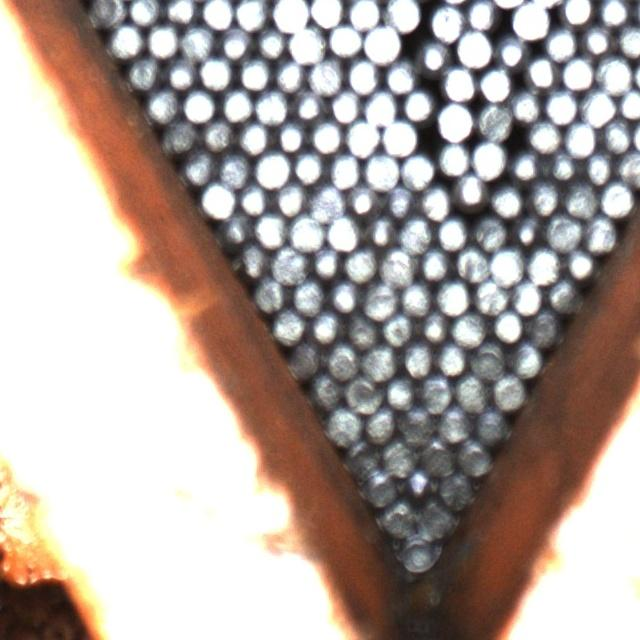tool: (344, 375, 381, 412), (363, 24, 400, 61), (254, 150, 290, 187), (289, 25, 325, 62), (469, 342, 506, 378), (345, 56, 382, 92), (361, 281, 397, 318), (289, 213, 325, 250), (582, 215, 618, 252), (473, 277, 509, 313), (597, 56, 633, 92), (272, 180, 308, 216), (454, 246, 490, 282), (308, 118, 344, 154), (546, 214, 582, 250), (399, 408, 435, 444), (308, 184, 344, 220), (472, 214, 508, 250), (286, 340, 322, 376), (419, 437, 455, 473), (513, 1, 548, 38), (381, 118, 416, 154), (400, 152, 435, 188), (399, 280, 434, 316), (379, 247, 414, 283), (453, 373, 488, 409), (417, 374, 452, 410), (217, 24, 252, 60), (559, 55, 595, 90), (328, 22, 363, 58), (307, 57, 342, 93), (476, 102, 511, 138), (580, 89, 616, 124), (435, 279, 470, 315), (271, 246, 306, 282), (364, 152, 399, 188), (522, 53, 558, 88), (436, 406, 471, 442), (600, 180, 635, 216), (200, 116, 235, 152), (345, 312, 380, 348), (324, 342, 359, 378), (218, 87, 254, 122), (398, 217, 434, 252), (562, 120, 597, 156), (360, 344, 396, 379), (344, 179, 380, 214), (440, 64, 475, 100), (489, 248, 524, 284), (108, 22, 143, 58), (416, 36, 451, 72), (363, 406, 398, 442), (437, 102, 471, 139), (292, 148, 327, 183), (291, 278, 326, 313), (380, 311, 415, 346), (543, 25, 578, 60), (453, 170, 488, 205), (452, 311, 487, 346), (471, 142, 506, 177), (326, 407, 361, 442), (526, 180, 561, 215), (252, 275, 287, 310), (345, 119, 380, 154), (509, 279, 544, 314), (272, 56, 307, 91), (417, 245, 452, 280), (308, 308, 343, 343), (382, 374, 417, 409), (416, 308, 451, 343), (290, 86, 325, 121), (490, 307, 525, 342), (308, 244, 343, 279), (146, 86, 181, 121), (181, 148, 216, 183), (363, 90, 398, 125), (433, 341, 468, 376), (457, 438, 492, 473), (383, 59, 418, 94), (199, 54, 233, 90), (344, 246, 378, 282), (526, 247, 560, 283), (430, 4, 464, 40), (146, 22, 180, 58), (456, 30, 490, 66), (477, 65, 511, 101), (544, 87, 578, 123), (508, 212, 544, 246), (564, 181, 598, 217), (400, 340, 434, 376), (328, 152, 362, 187), (545, 276, 580, 310), (180, 25, 214, 60), (254, 211, 288, 246), (328, 277, 362, 312), (271, 308, 306, 342), (417, 185, 452, 219), (580, 21, 614, 56), (382, 182, 417, 216), (253, 89, 288, 123), (164, 54, 198, 89), (545, 147, 580, 181), (181, 88, 216, 122), (582, 149, 616, 184), (326, 214, 360, 249), (494, 32, 529, 66), (274, 118, 308, 153), (509, 148, 543, 183), (434, 215, 468, 250), (475, 407, 509, 442), (236, 120, 271, 154), (308, 372, 343, 406), (508, 342, 542, 377), (201, 182, 235, 216), (218, 153, 252, 187), (127, 54, 161, 88), (162, 118, 196, 152), (491, 374, 525, 408), (255, 26, 289, 60), (329, 89, 363, 123), (237, 56, 271, 90), (400, 87, 434, 121), (488, 183, 522, 217), (364, 213, 398, 247), (527, 310, 561, 344), (436, 141, 470, 175), (236, 242, 270, 276), (238, 181, 271, 216), (563, 246, 596, 281), (600, 119, 634, 152), (382, 440, 415, 474), (510, 89, 543, 123), (383, 0, 420, 30), (528, 119, 561, 152), (346, 0, 382, 30), (464, 0, 498, 31), (220, 210, 252, 242), (439, 472, 471, 504), (273, 0, 308, 29), (402, 465, 434, 496), (234, 0, 268, 29), (308, 0, 343, 28), (421, 502, 452, 533), (352, 447, 383, 478), (201, 0, 235, 28), (366, 474, 397, 504), (380, 503, 411, 533), (88, 0, 125, 25), (127, 0, 162, 26), (597, 0, 632, 26), (558, 0, 594, 25), (164, 0, 200, 25), (615, 22, 640, 58), (616, 86, 640, 120), (617, 150, 640, 184)
